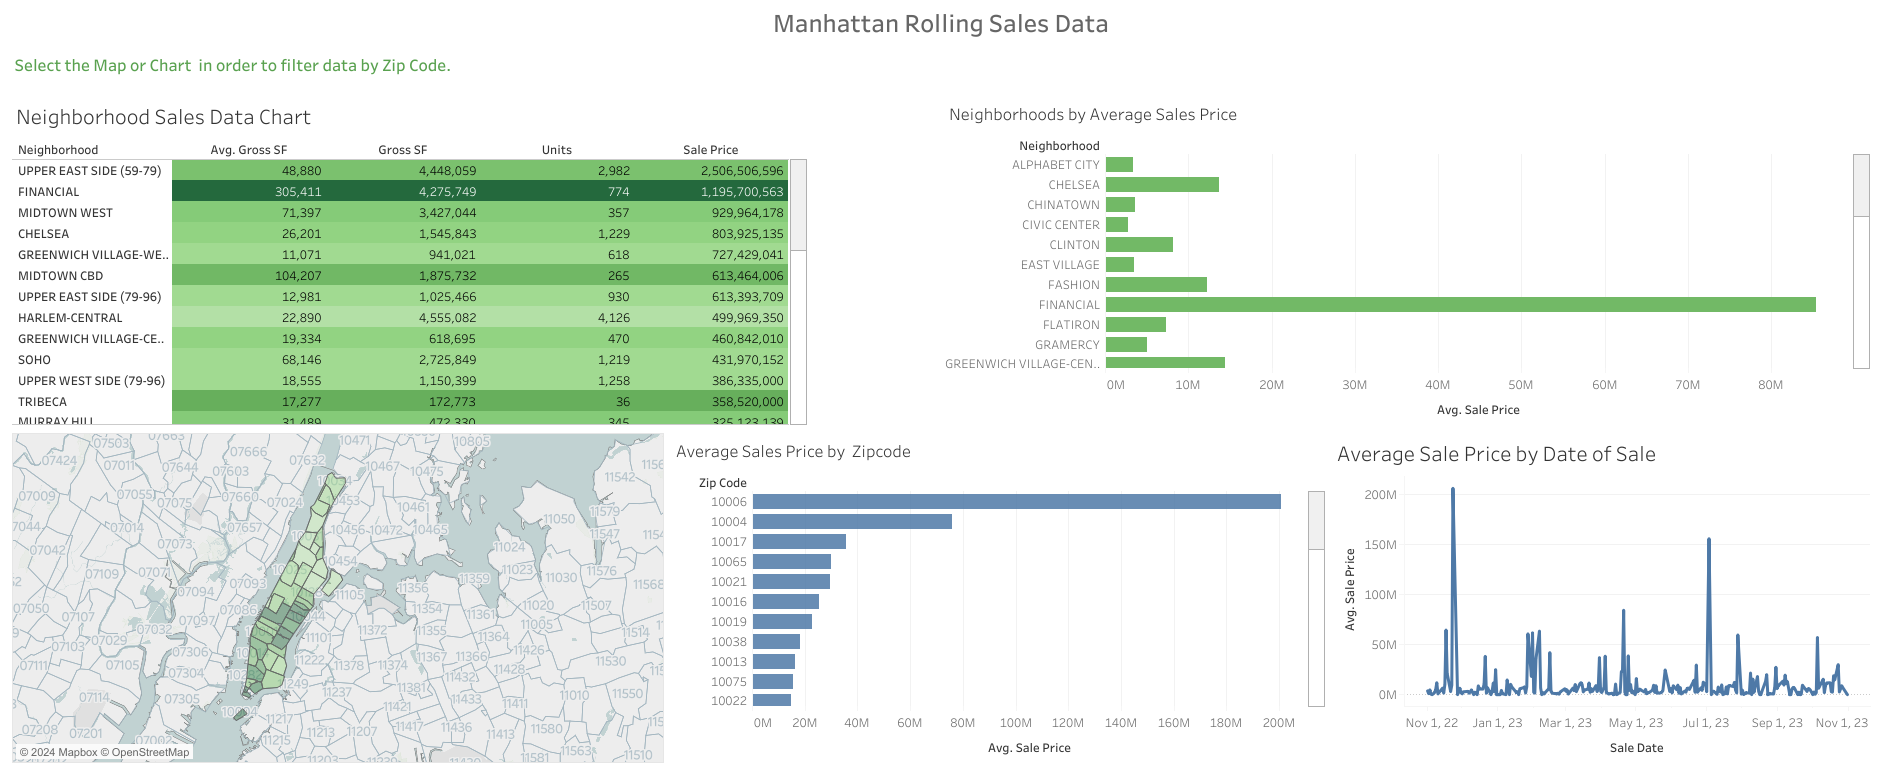

This screenshot's page, from the dashboard's own definition file:
{"tool":"tableau","page":{"name":"Dashboard 1","canvas":[1000,1000],"units":"permille","ordinal":0},"visuals":[{"type":"text","box":[5,8.9,990.1,36.3]},{"type":"text","box":[5,45.2,990.1,72]},{"type":"worksheet","title":"Heatmap","mark":"Square","rows":["NEIGHBORHOOD"],"box":[5,117.2,495.1,436.9]},{"type":"worksheet","title":"Bar3","mark":"Automatic","rows":["NEIGHBORHOOD"],"cols":["SALE_PRICE"],"box":[500,117.2,495.1,436.9]},{"type":"worksheet","title":"Map","mark":"Automatic","box":[5,554.1,326.5,436.9]},{"type":"worksheet","title":"Bar","mark":"Automatic","rows":["ZIP_CODE"],"cols":["SALE_PRICE"],"box":[331.4,554.1,326.6,436.9]},{"type":"worksheet","title":"Line","mark":"Automatic","rows":["SALE_PRICE"],"cols":["SALE_DATE"],"box":[658,554.1,337,436.9]}]}

Visuals, with their boxes on the dashboard's canvas, which has no fixed pixel size, in thousandths of its width and height (x1, y1, x2, y2). These are canvas units, not pixel positions in the 1881x774 screenshot, which may show the page scaled, cropped or inside an application window:
text: {"left": 5, "top": 9, "right": 995, "bottom": 45}
text: {"left": 5, "top": 45, "right": 995, "bottom": 117}
"Heatmap" worksheet (Square marks): {"left": 5, "top": 117, "right": 500, "bottom": 554}
"Bar3" worksheet: {"left": 500, "top": 117, "right": 995, "bottom": 554}
"Map" worksheet: {"left": 5, "top": 554, "right": 332, "bottom": 991}
"Bar" worksheet: {"left": 331, "top": 554, "right": 658, "bottom": 991}
"Line" worksheet: {"left": 658, "top": 554, "right": 995, "bottom": 991}
